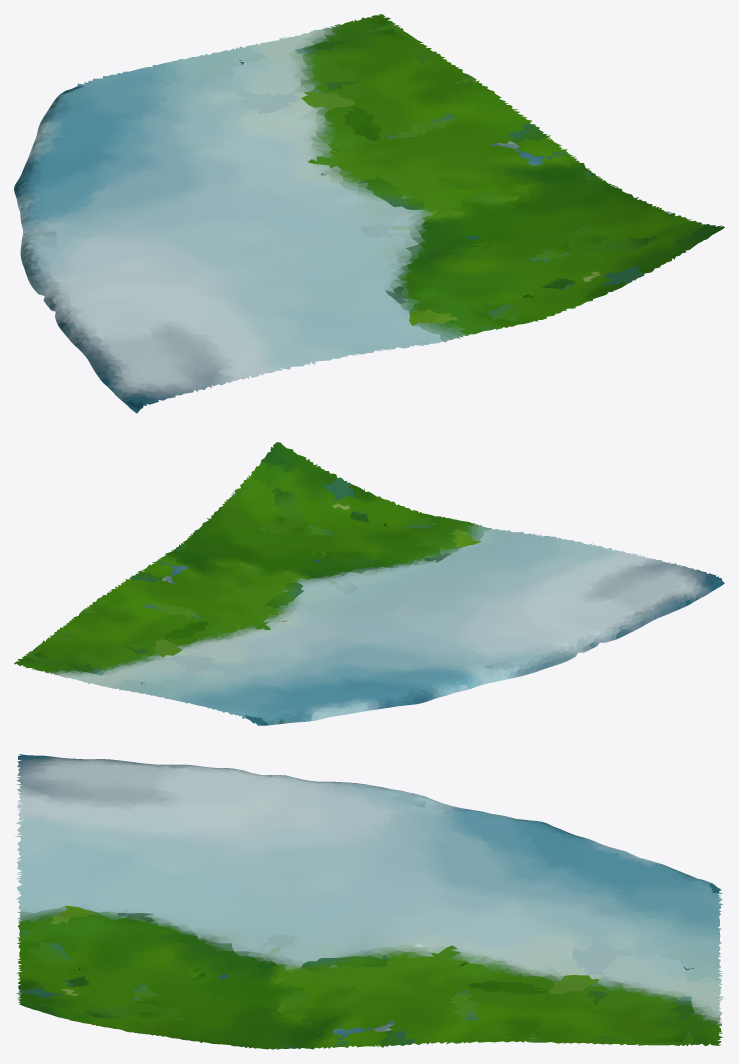
Rendered from chunk_0_1_LOD0.glb.
The picture shows the model from 3 angles, top to bottom: view 1: azimuth 30°, elevation 25°; view 2: azimuth 150°, elevation 25°; view 3: azimuth 270°, elevation 25°; orthographic projection. The views are drawn at different scales.
Visible parts, largest first — view 1: chunk_0_1_LOD0; view 2: chunk_0_1_LOD0; view 3: chunk_0_1_LOD0.
Part boxes in pixels (bbox=[...]): chunk_0_1_LOD0: bbox=[14, 14, 724, 413]; chunk_0_1_LOD0: bbox=[14, 442, 724, 725]; chunk_0_1_LOD0: bbox=[14, 754, 723, 1049].
Size of the model in its own units: 96.34 by 7.56 by 98.65.
Materials: 1 (1 with a texture image).
